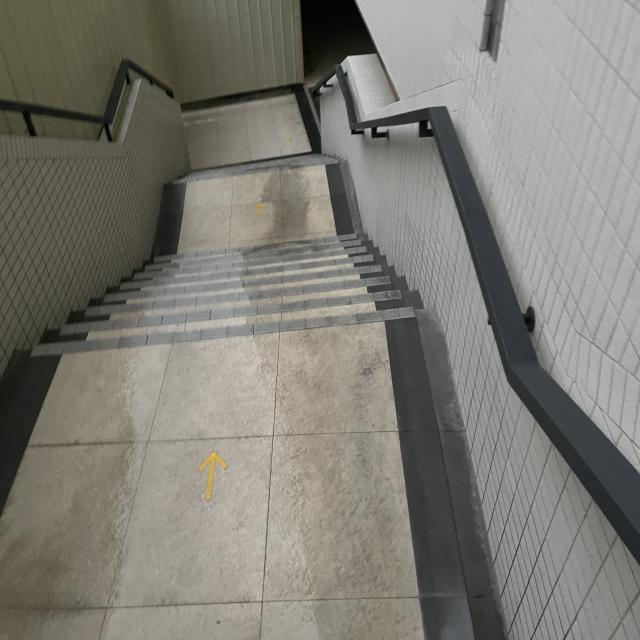Stairs: (6, 117, 453, 391)
